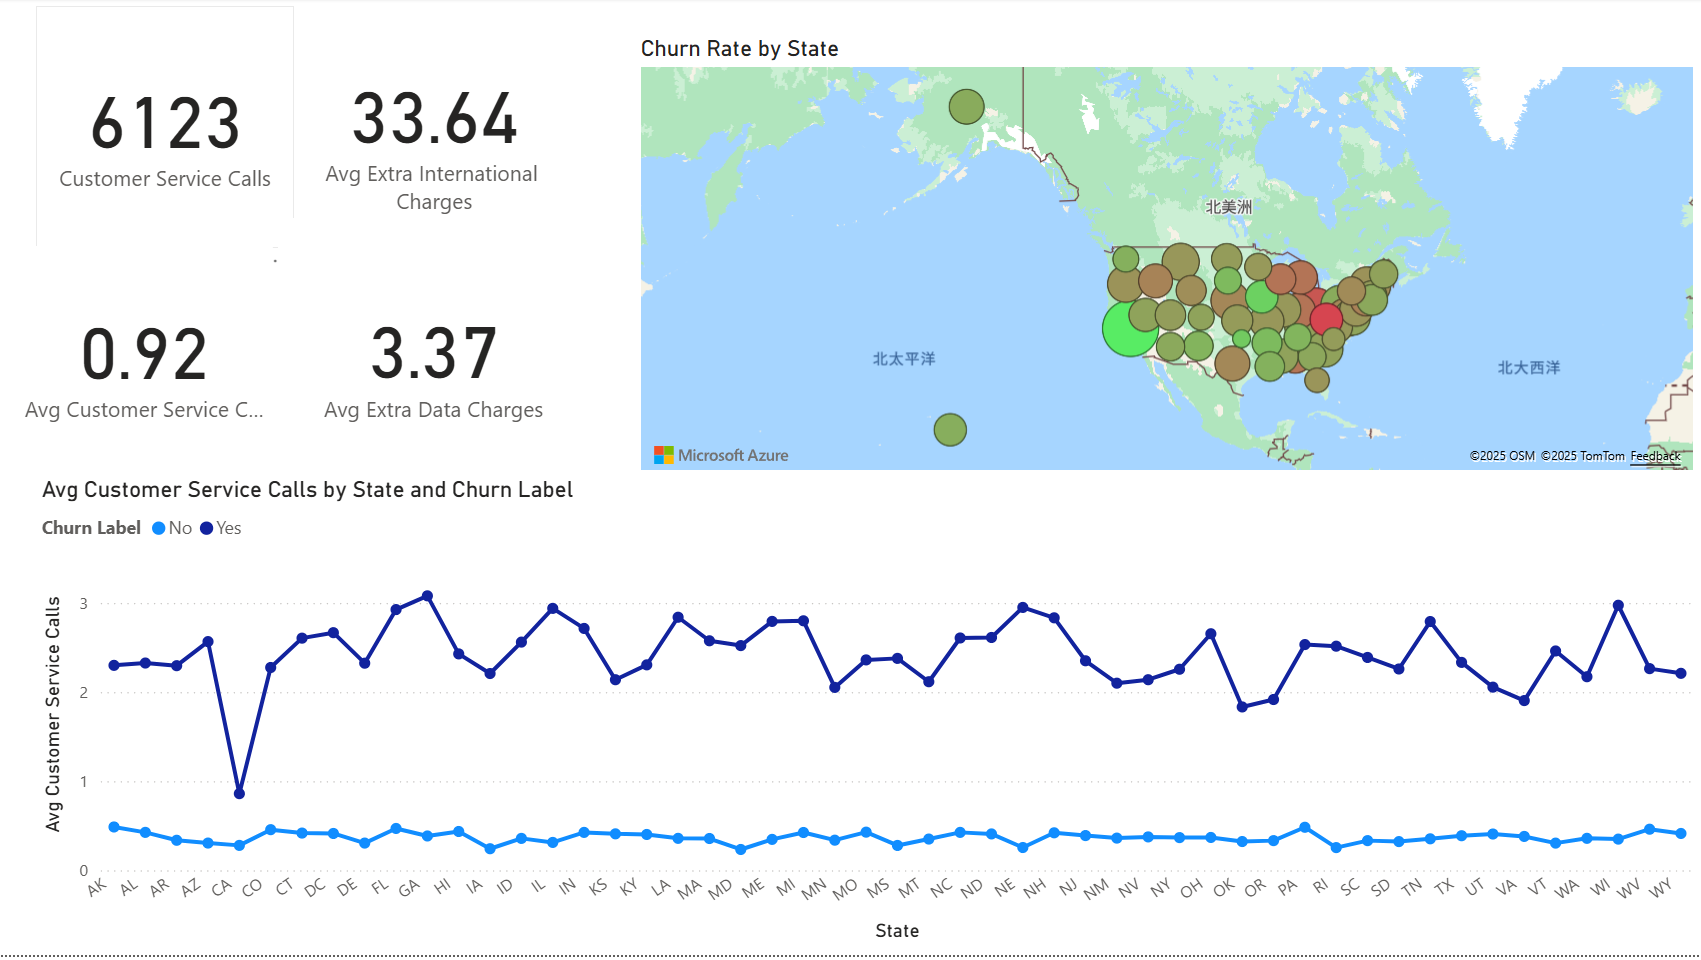

The page's visual inventory and layout, read from the dashboard file:
{"tool":"powerbi","page":{"name":"Insights","canvas":[1280,720],"ordinal":9},"visuals":[{"type":"card","fields":{"Values":["Sum(Databel - Data.Customer Service Calls)"]},"box":[27.6,6.1,194.4,182.2],"z":0},{"type":"card","fields":{"Values":["Databel - Data.Avg Customer Service Calls"]},"box":[12.2,186.8,194.4,168.4],"z":1000},{"type":"card","fields":{"Values":["Databel - Data.Avg Extra International Charges"]},"box":[222,0,211.3,186.8],"z":2000},{"type":"card","fields":{"Values":["Databel - Data.Avg Extra Data Charges"]},"box":[209.8,165.4,234.3,209.8],"z":3000},{"type":"lineChart","fields":{"Category":["Databel - Data.State"],"Y":["Databel - Data.Avg Customer Service Calls"],"Series":["Databel - Data.Churn Label"]},"box":[27.2,359.9,1252.8,355],"z":4000},{"type":"map","fields":{"Category":["Databel - Data.State"],"Size":["Databel - Data.Churn Rate"]},"box":[477.7,27.6,802.3,332.2],"z":5000}]}

Visuals, with their boxes in screenshot pixels (x1, y1, x2, y2), scaled from the page's 1280x720 canvas onto the 1701x960 screenshot:
card - Sum(Databel - Data.Customer Service Calls): pyautogui.locateOnScreen(37, 8, 295, 251)
card - Databel - Data.Avg Customer Service Calls: pyautogui.locateOnScreen(16, 249, 275, 474)
card - Databel - Data.Avg Extra International Charges: pyautogui.locateOnScreen(295, 0, 576, 249)
card - Databel - Data.Avg Extra Data Charges: pyautogui.locateOnScreen(279, 221, 590, 500)
lineChart - Databel - Data.State x Databel - Data.Avg Customer Service Calls: pyautogui.locateOnScreen(36, 480, 1700, 953)
map - Databel - Data.State x Databel - Data.Churn Rate: pyautogui.locateOnScreen(635, 37, 1700, 480)
